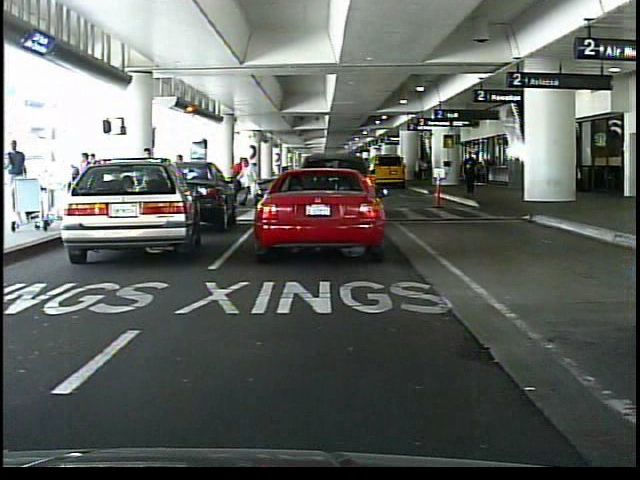person: (6, 138, 34, 224), (141, 144, 159, 221), (229, 154, 247, 205), (241, 157, 259, 206), (464, 153, 481, 196), (415, 155, 427, 189)
